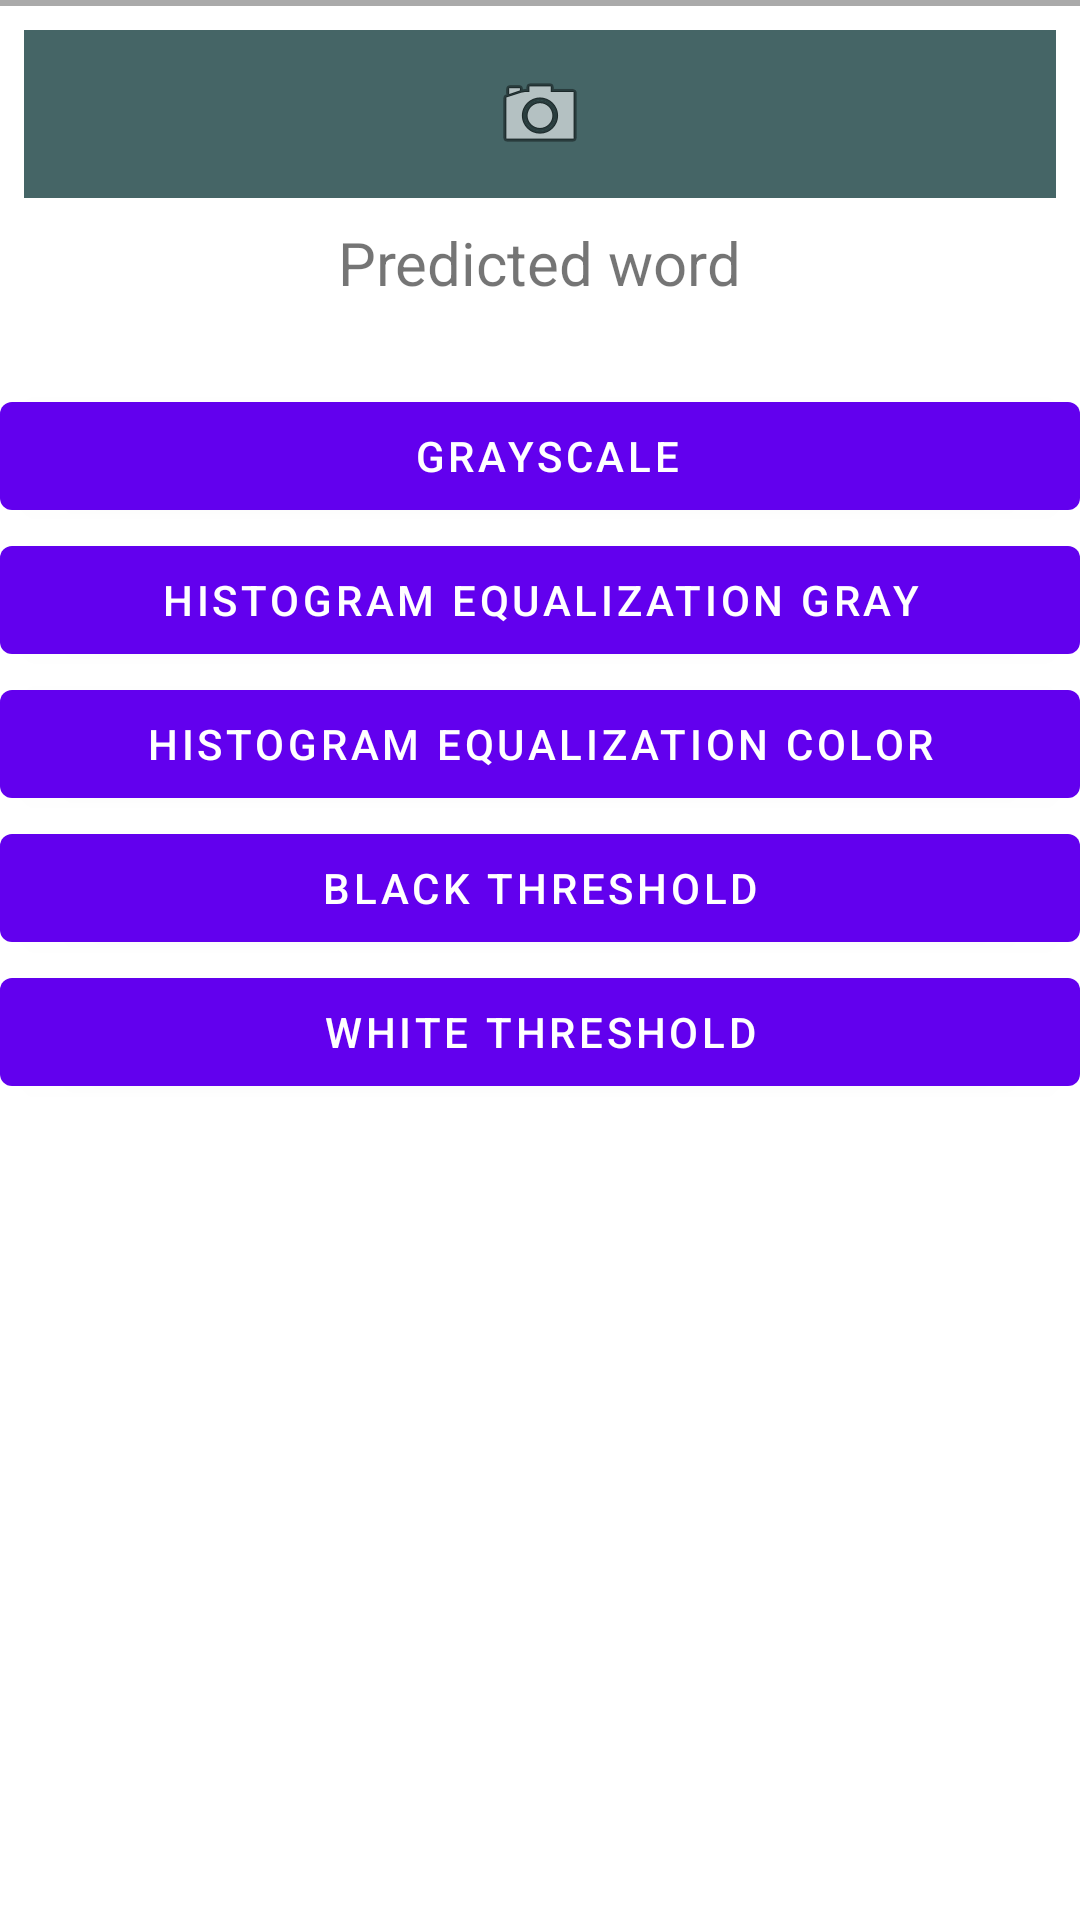

Icons on this 1080x1920 Android screen, each with the point to tap as point (x, y):
camera: point (540, 112)
